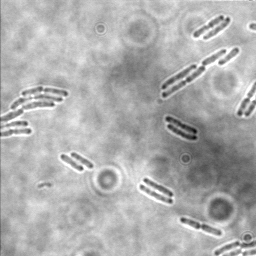Dividing: (160, 64, 205, 99), (179, 215, 223, 237), (235, 80, 256, 118), (138, 184, 174, 206), (192, 14, 224, 38), (163, 115, 199, 135), (166, 123, 198, 142), (60, 153, 84, 173)
Microcolony: (1, 85, 70, 138)
Rod: (160, 63, 197, 91), (202, 16, 231, 41), (142, 177, 174, 197), (200, 48, 227, 67), (213, 239, 241, 256), (70, 151, 94, 169), (217, 47, 239, 66)
